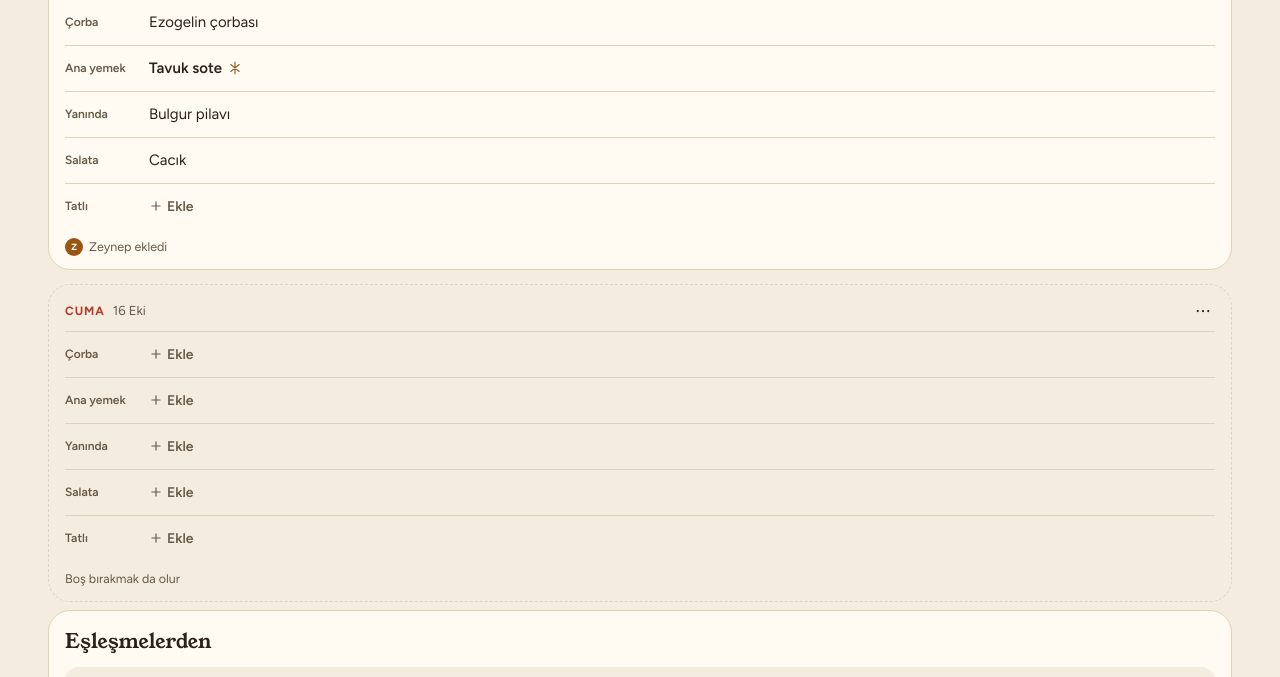
it: Hafta (mobile list) › adds a dish to an empty slot through the picker
The image size is (1280, 677).
(page scrolled)
Click the button with aria-label "Cuma · Çorba ekle". click: (156, 354)
box: [149,332,1215,376]
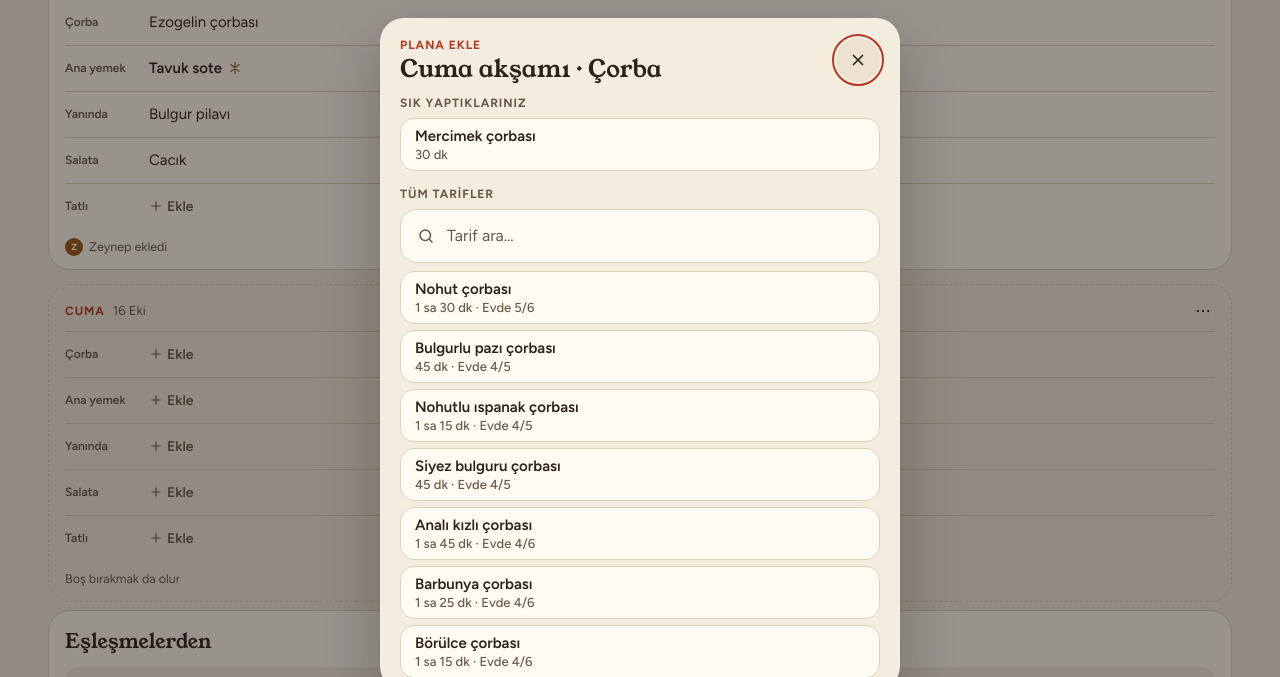
Click the button "Mercimek çorbası 30 dk". click: (475, 136)
box: [400,118,880,171]
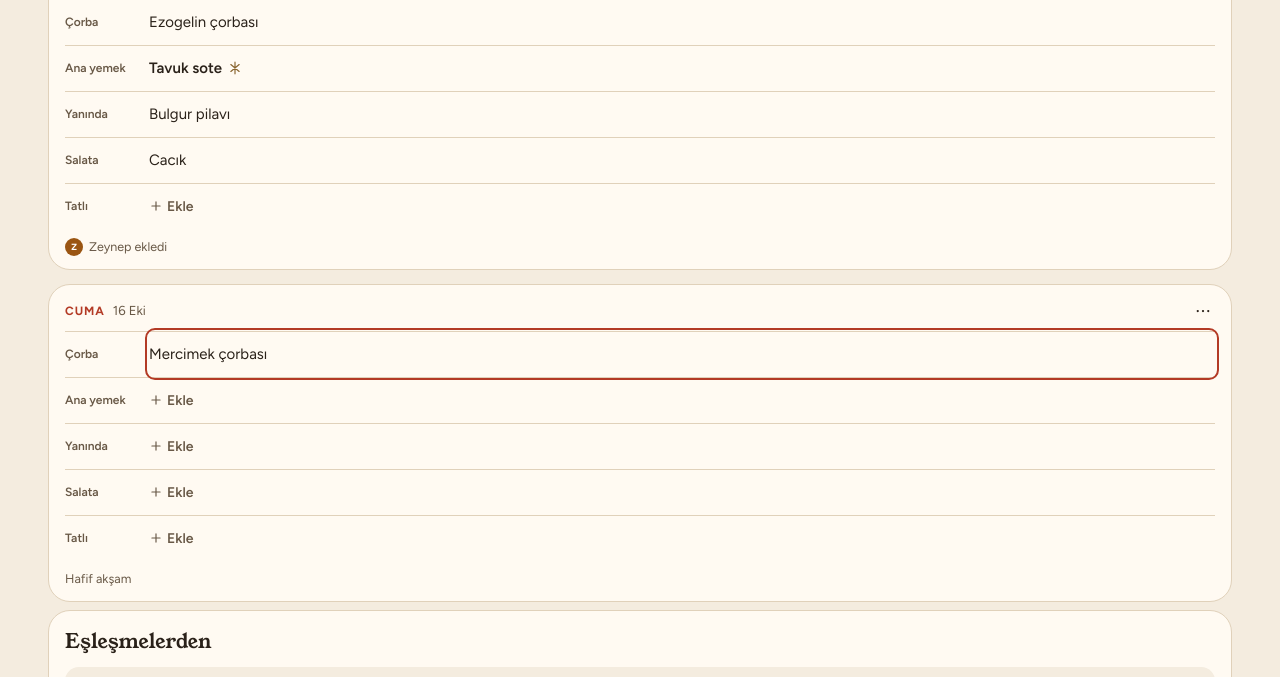
Expected: the element named "Cuma," shows "Mercimek çorbası", [149,332,1215,376]
